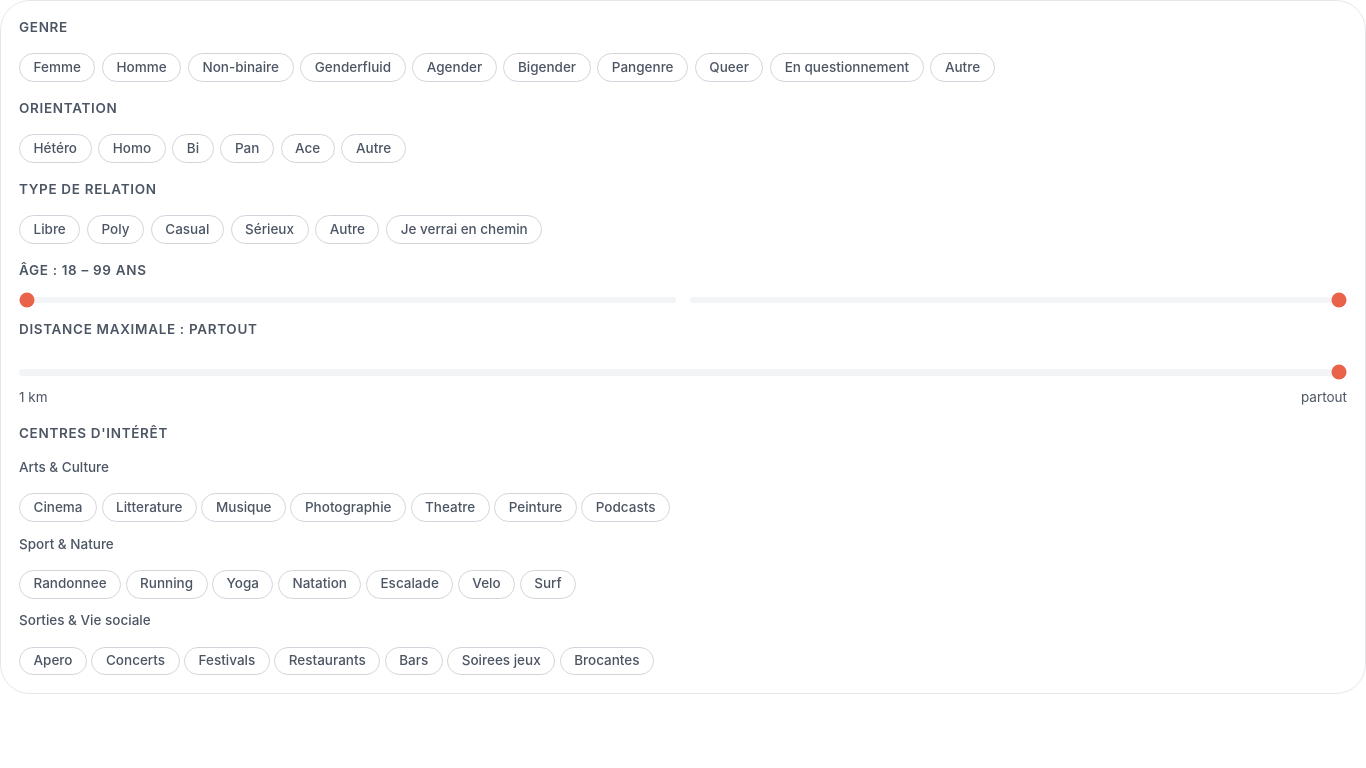
<SearchFilters /> — réciprocité (#519) › pose la question au clic du genre sans genre déclaré, et ne pose pas le filtre
Click the button "Femme" at (57, 68), box [19,53,95,82]
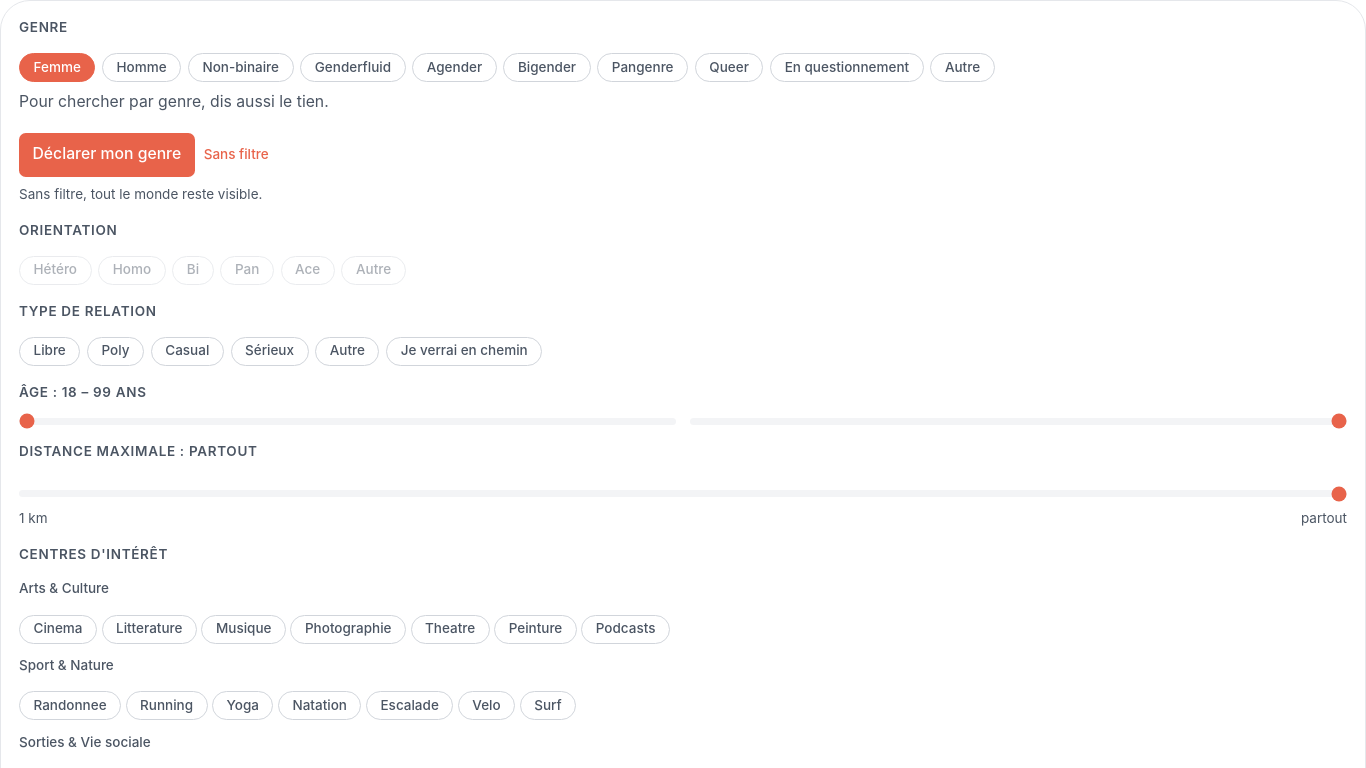
Expected: the text "Pour chercher par genre, dis aussi le tien." is shown, [19,92,329,111]
